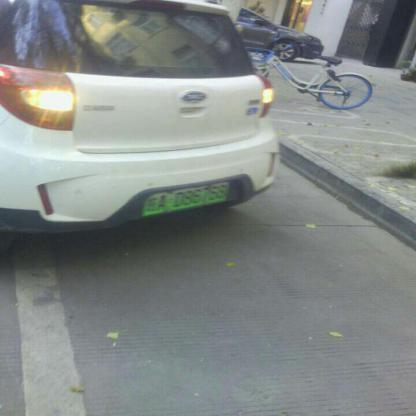lp: (142, 181, 230, 216)
